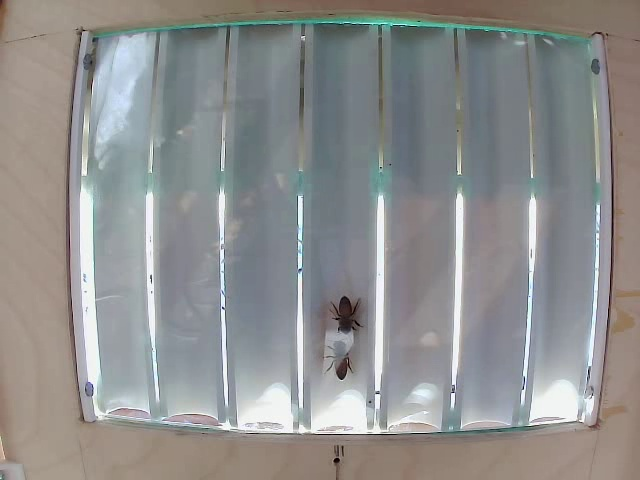bee: (328, 287, 375, 335), (317, 331, 357, 376)
